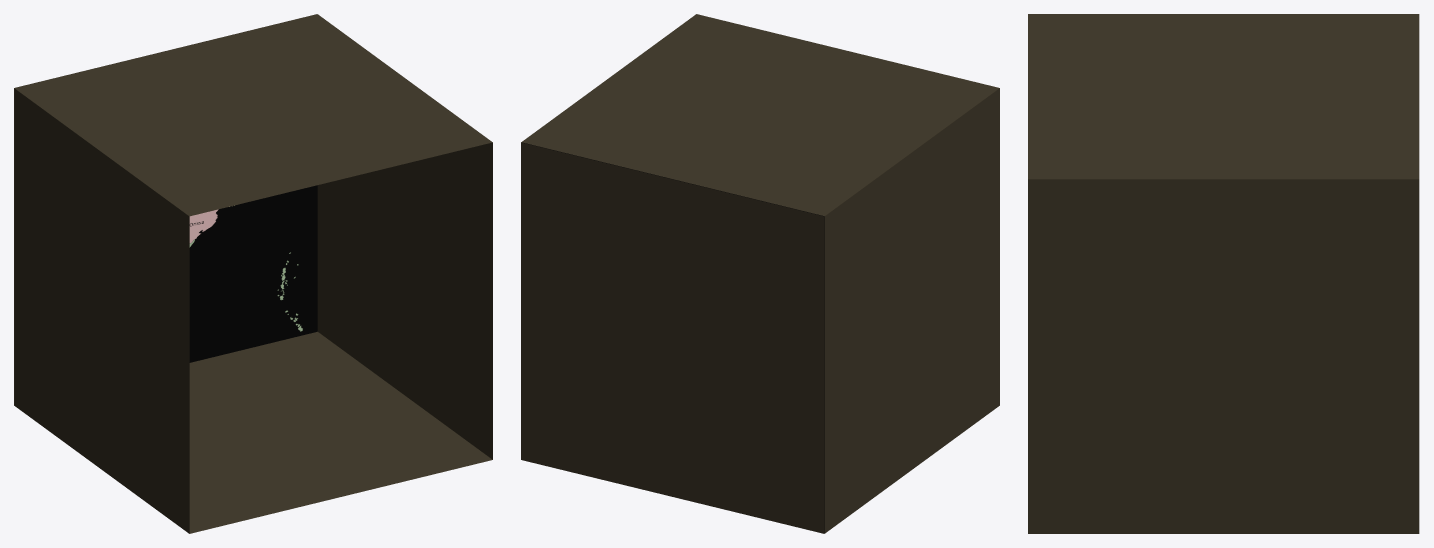
File: IndiaMap.glb
3 views of the same model, side by side, from view 1: azimuth 30°, elevation 25°; view 2: azimuth 150°, elevation 25°; view 3: azimuth 270°, elevation 25° (orthographic). The views are drawn at different scales.
Visible parts, largest first — view 1: Cube, Cube.002, Odisha, Cube.001; view 2: Cube, Cube.001, Cube.002; view 3: Cube.
Part boxes in pixels (left/top/right/bottom): Cube: left=14, top=14, right=492, bottom=533; Cube.002: left=189, top=185, right=317, bottom=362; Odisha: left=189, top=208, right=222, bottom=242; Cube.001: left=14, top=14, right=316, bottom=405; Cube: left=521, top=14, right=999, bottom=533; Cube.001: left=521, top=142, right=824, bottom=533; Cube.002: left=521, top=142, right=824, bottom=533; Cube: left=1028, top=14, right=1419, bottom=533.
Size of the model in its own units: 2 by 2 by 2.
2 materials, 1 textured.
